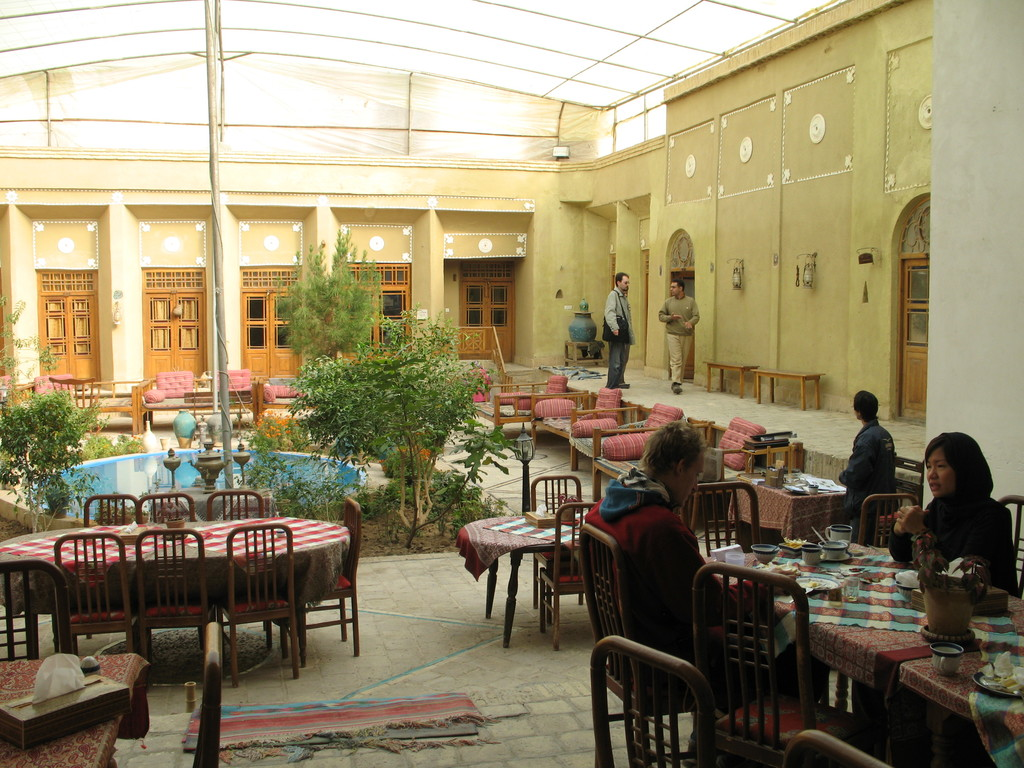Chair: (30, 516, 332, 698), (591, 460, 721, 767), (689, 561, 867, 767), (278, 497, 367, 659), (201, 487, 271, 630), (536, 500, 605, 644), (532, 474, 591, 604), (0, 561, 78, 659), (680, 484, 766, 555), (179, 621, 218, 767), (785, 723, 897, 767), (851, 494, 920, 548), (138, 490, 204, 528), (79, 494, 143, 527), (1002, 495, 1023, 591)
